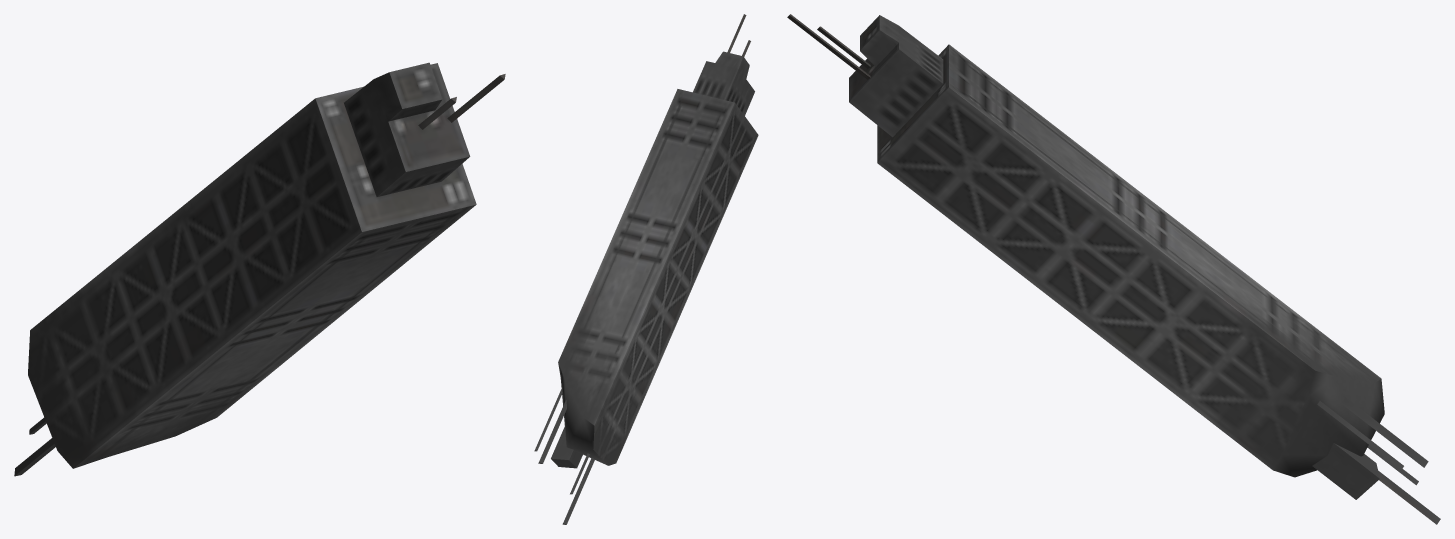
The model's file is skyBuildingAAA_pos_grp (8).fbx.
3 renders of one model, left to right at view 1: azimuth 30°, elevation 25°; view 2: azimuth 150°, elevation 25°; view 3: azimuth 270°, elevation 25°, orthographic. The views are drawn at different scales.
Parts seen in each view (by area): view 1: skyBuildingAAA_geo; view 2: skyBuildingAAA_geo; view 3: skyBuildingAAA_geo.
Part boxes in pixels (x1,y1,x2,y2): skyBuildingAAA_geo: (14,62,505,476); skyBuildingAAA_geo: (534,14,758,524); skyBuildingAAA_geo: (787,14,1440,524).
Size of the model in its own units: 1.7 by 9.68 by 10.78.
